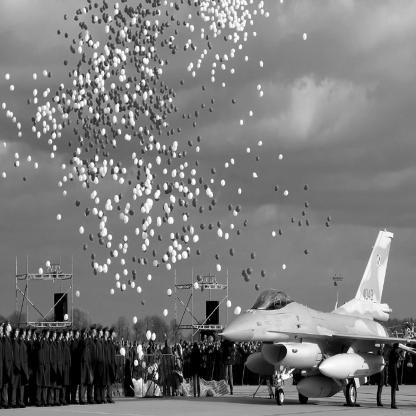F16: (216, 228, 416, 407)
